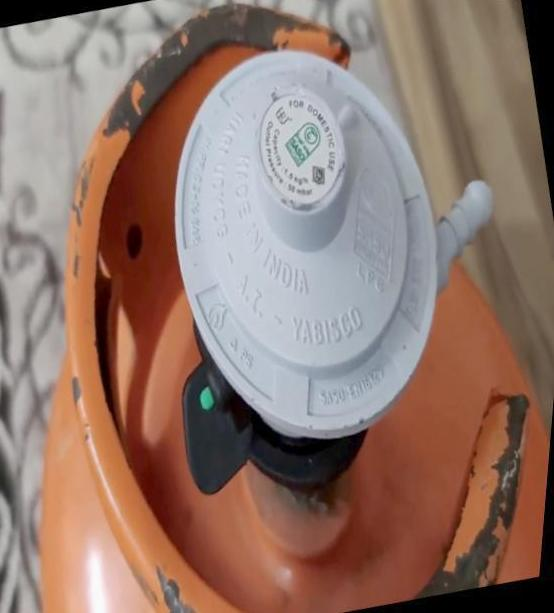cylinder: (1, 0, 554, 613)
